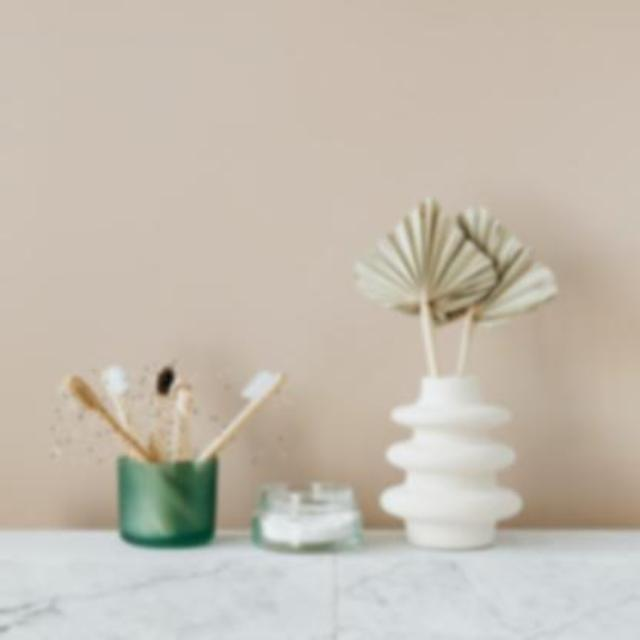toothbrush: (52, 372, 160, 464), (205, 363, 291, 467), (96, 359, 150, 465), (138, 359, 180, 465), (162, 374, 198, 468)
